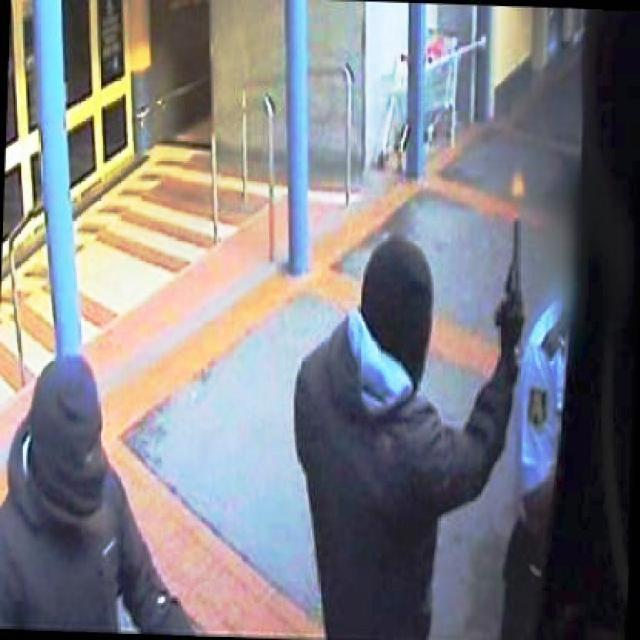Gun: (482, 200, 548, 322)
